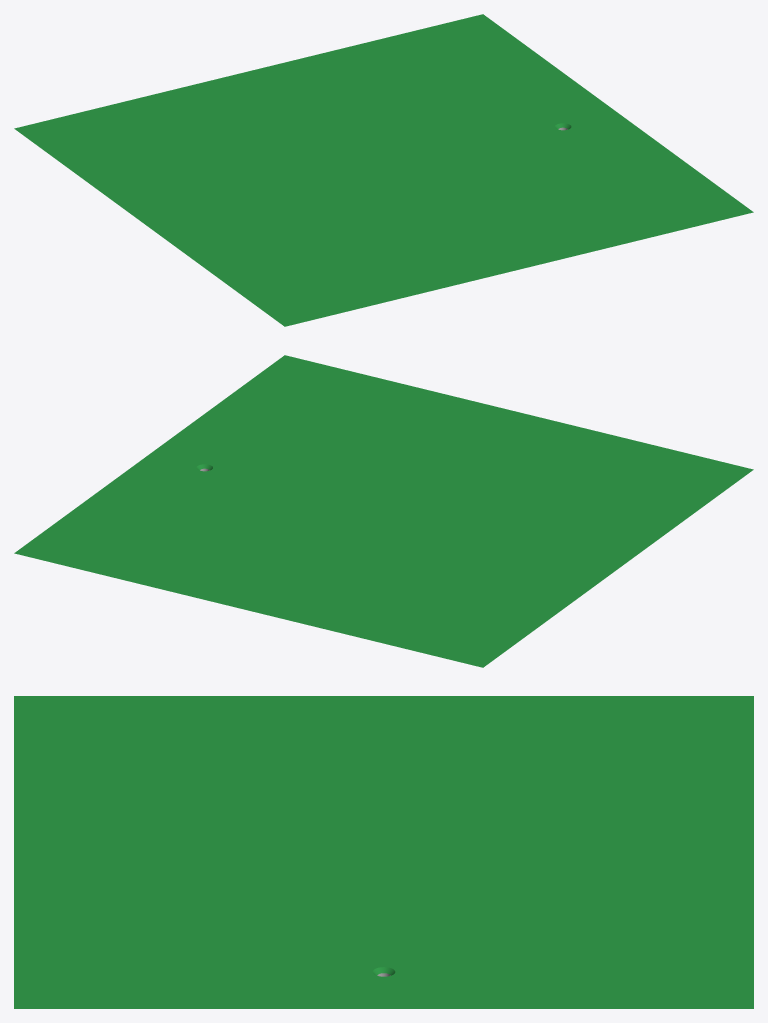
File: golf course.fbx
3 views of the same model, one above another, from view 1: azimuth 30°, elevation 25°; view 2: azimuth 150°, elevation 25°; view 3: azimuth 270°, elevation 25° (orthographic). The views are drawn at different scales.
Visible parts, largest first — view 1: Plane; view 2: Plane; view 3: Plane.
Part boxes in pixels (x1=…): Plane: x1=14, y1=14, x2=753, y2=326; Plane: x1=14, y1=355, x2=753, y2=667; Plane: x1=14, y1=696, x2=753, y2=1008.
Bounding box in the file's own units: 1236 × 23.37 × 1236.
